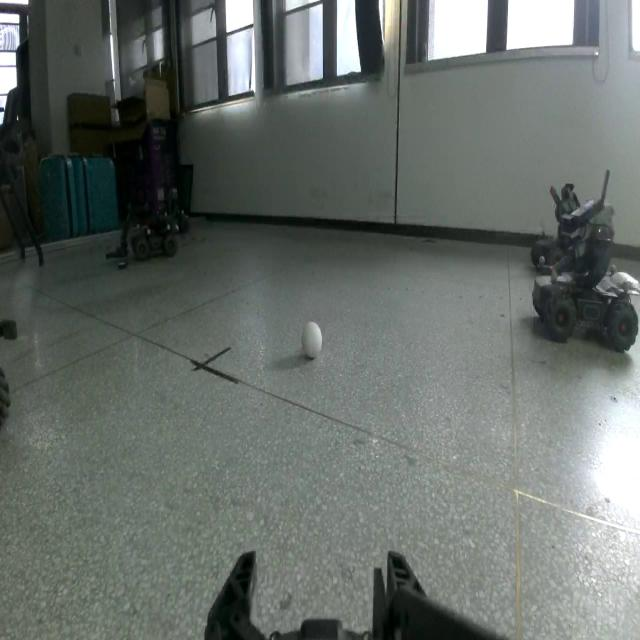ball1: (301, 318, 323, 362)
ep: (107, 195, 184, 268)
s1: (532, 192, 638, 351)
